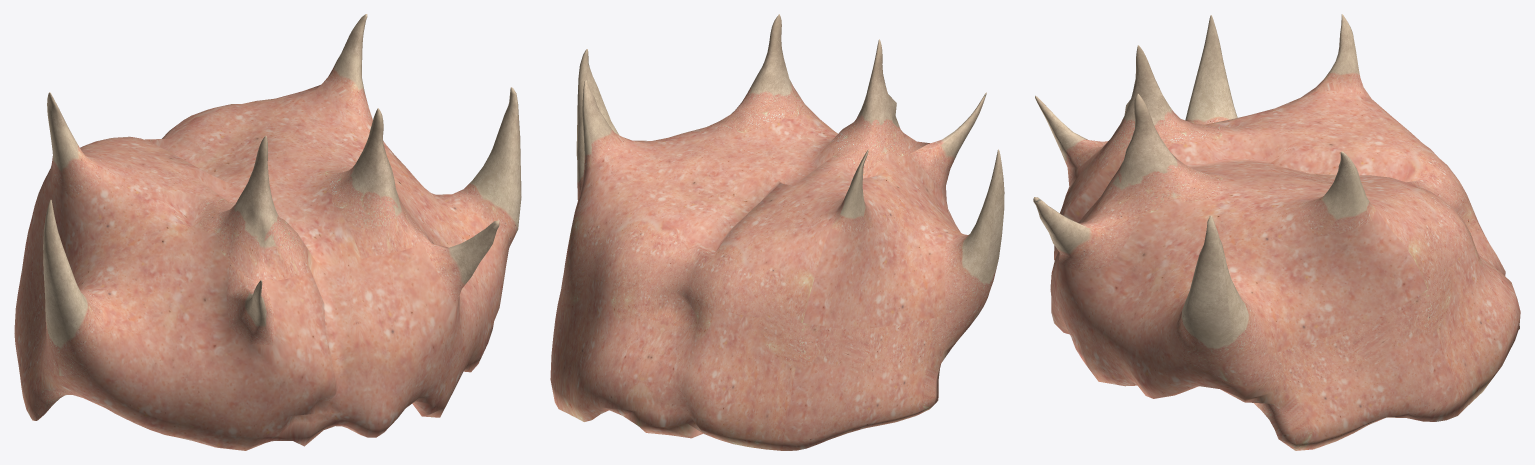
The model's file is Slime_Meat.fbx.
3 views of the same model, side by side, from view 1: azimuth 30°, elevation 25°; view 2: azimuth 150°, elevation 25°; view 3: azimuth 270°, elevation 25° (orthographic). The views are drawn at different scales.
Parts seen in each view (by area): view 1: Low_POly_SLime_Meat_SM; view 2: Low_POly_SLime_Meat_SM; view 3: Low_POly_SLime_Meat_SM.
Boxes of the visible parts, box(x1,y1,x2,y2) form: Low_POly_SLime_Meat_SM: box(14, 14, 521, 450); Low_POly_SLime_Meat_SM: box(550, 14, 1004, 450); Low_POly_SLime_Meat_SM: box(1033, 14, 1520, 450).
Size of the model in its own units: 45.72 by 30.48 by 45.72.
Materials: 1 (1 with a texture image).
